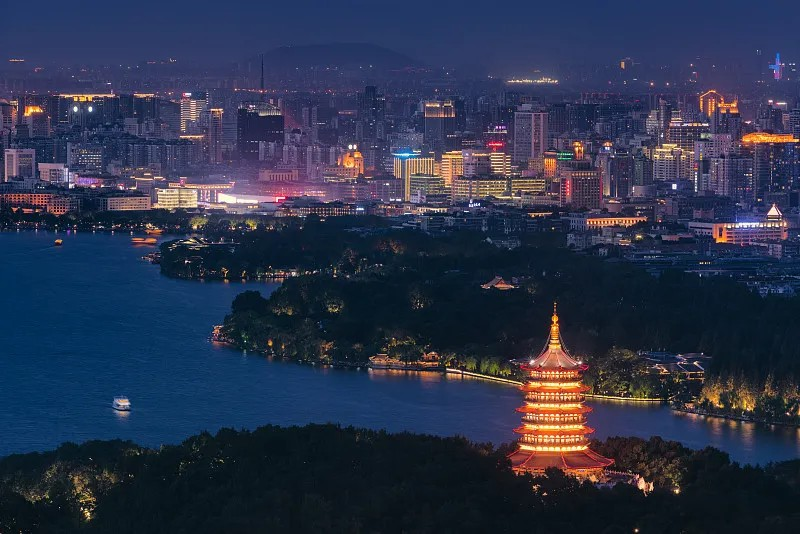Leifeng: (505, 302, 615, 485)
